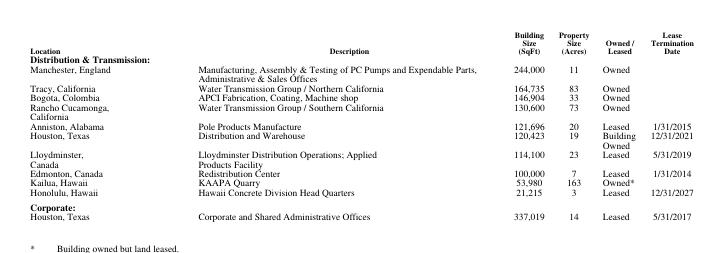table: (29, 29, 692, 221)
table column: (153, 29, 494, 221), (29, 29, 153, 221), (494, 29, 550, 221), (642, 29, 692, 221), (595, 29, 642, 221), (550, 29, 595, 221)
table column header: (29, 29, 692, 54)
table projected row header: (29, 199, 692, 211), (29, 54, 692, 64), (29, 111, 692, 120)
table row: (29, 29, 692, 54), (29, 64, 692, 82), (29, 187, 692, 199), (29, 199, 692, 211), (29, 54, 692, 64), (29, 82, 692, 92), (29, 101, 692, 111), (29, 120, 692, 130), (29, 139, 692, 149), (29, 158, 692, 168), (29, 177, 692, 187), (29, 211, 692, 221), (29, 92, 692, 101), (29, 111, 692, 120), (29, 130, 692, 139), (29, 149, 692, 158), (29, 168, 692, 177)
table spanning cell: (29, 130, 153, 149)
